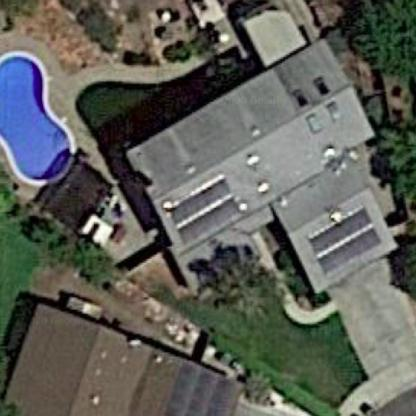solar_panel: (165, 172, 243, 249), (307, 204, 381, 274), (167, 354, 237, 416)
swimming_pool: (1, 33, 81, 198)
